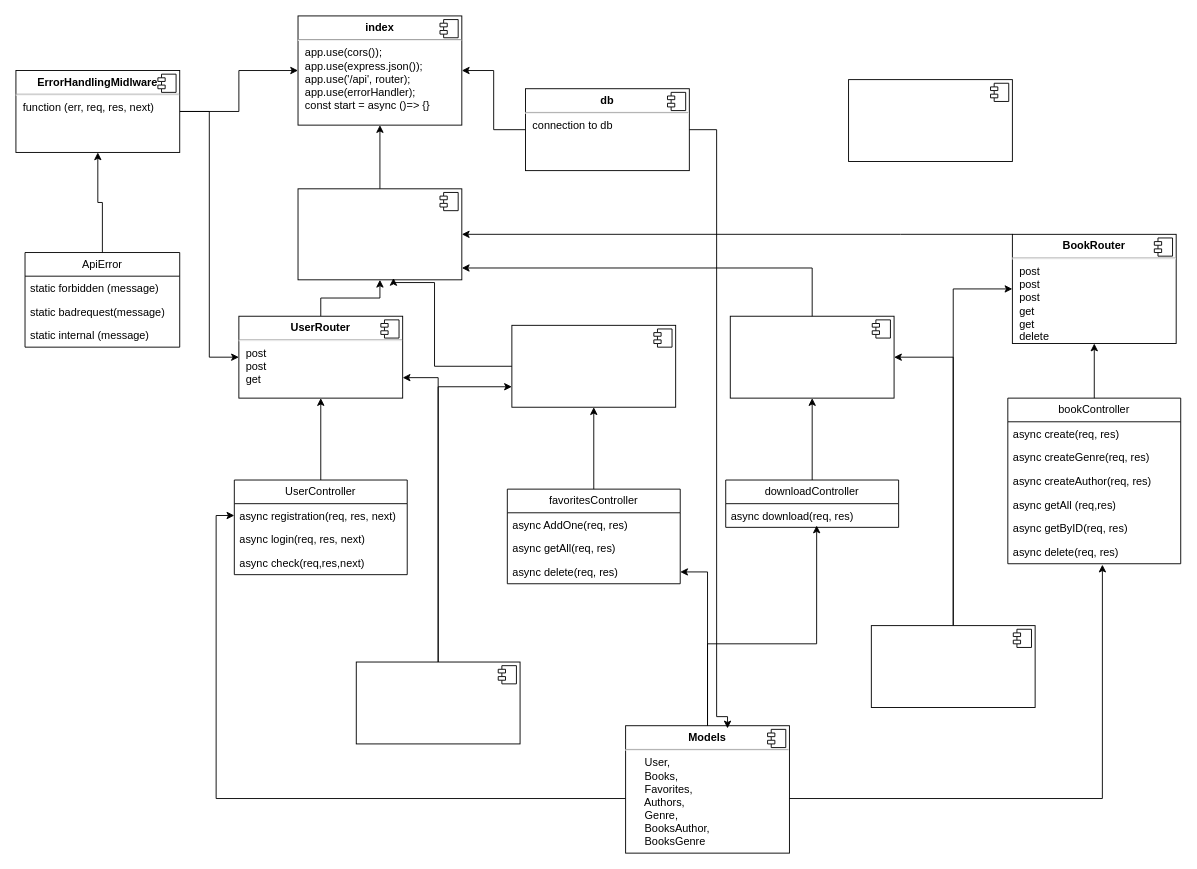
This 1197x869 diagram has some shape labels left out. The centre of each missing label's shape, as x and y in pixels:
"AuthMiddleware function (req, res, next){}" goes at [437,702].
"CheckRoleMiddleware function(role){}" goes at [952,666].
"downloadRouter get" goes at [811,356].
"favoritesRouter post get delete" goes at [593,365].
"index(Router) use(User) user(book) user(favorites) user(download)" goes at [379,234].
"Role ChangingUserRole" goes at [930,120].
